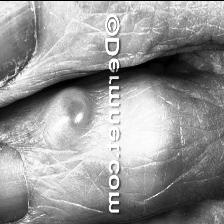Toxin: (39, 72, 94, 154)
